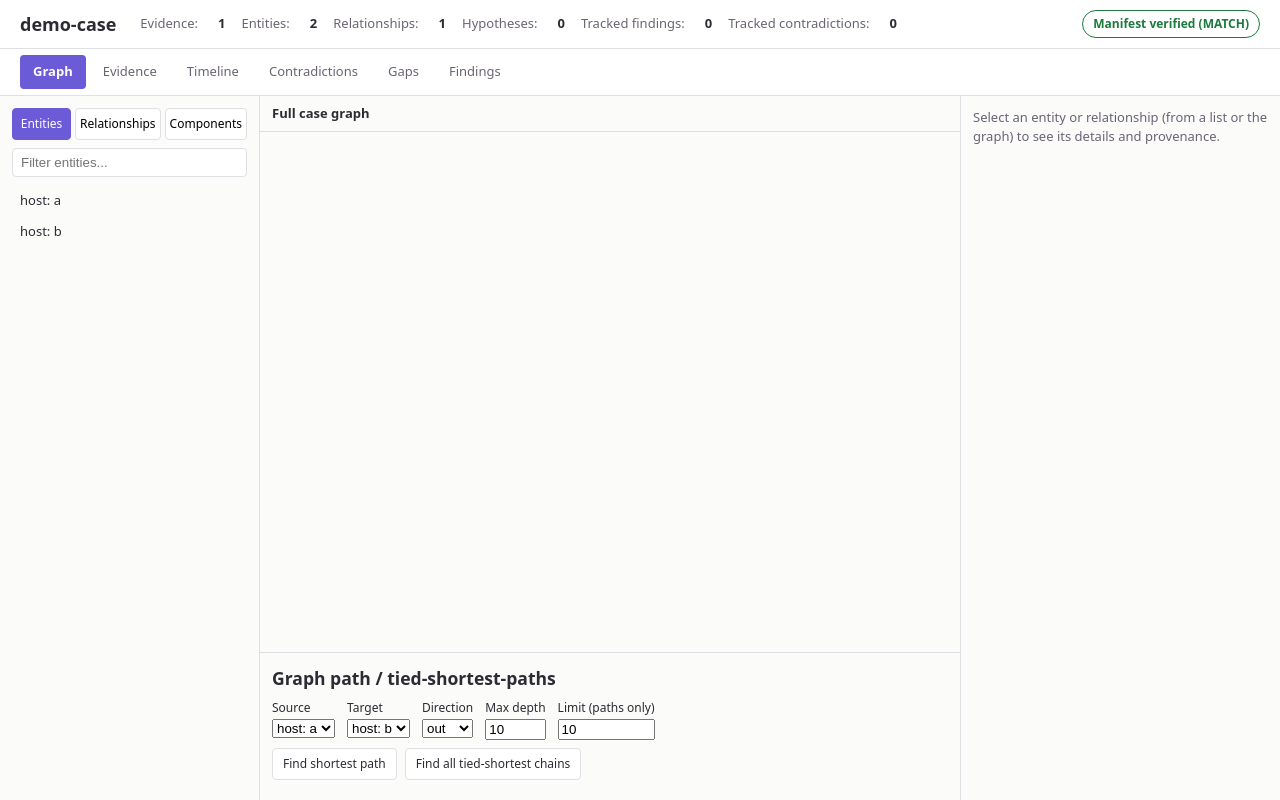
App › selecting an entity from the list opens its detail panel with provenance
The width and height of the screenshot is (1280, 800).
Expected: the header with test id "case-header" is shown, [0,0,1279,49]
Click the button "host: a".
click(130, 200)  # box [12,184,247,216]
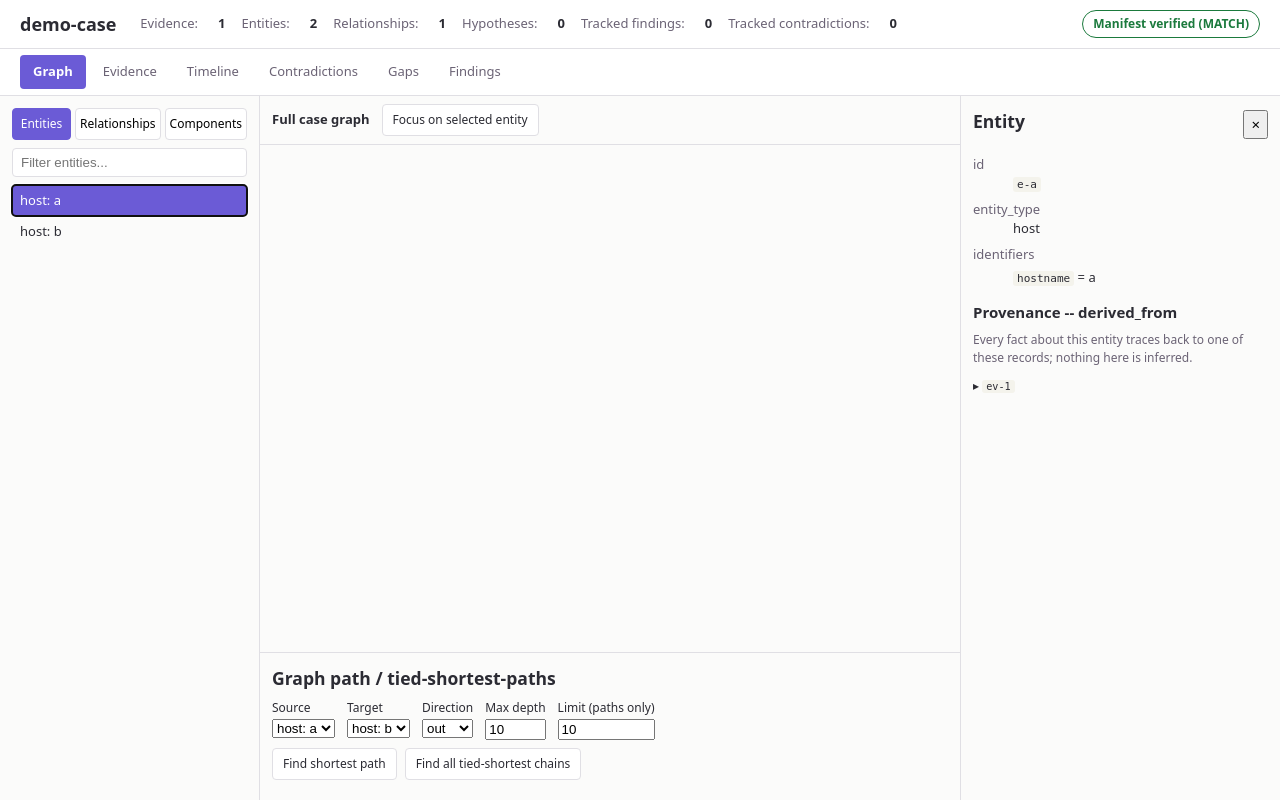
Now the element with test id "entity-detail" is shown, box [973,108,1268,397]
Now the text "ev-1" is shown, box [982,380,1015,393]
